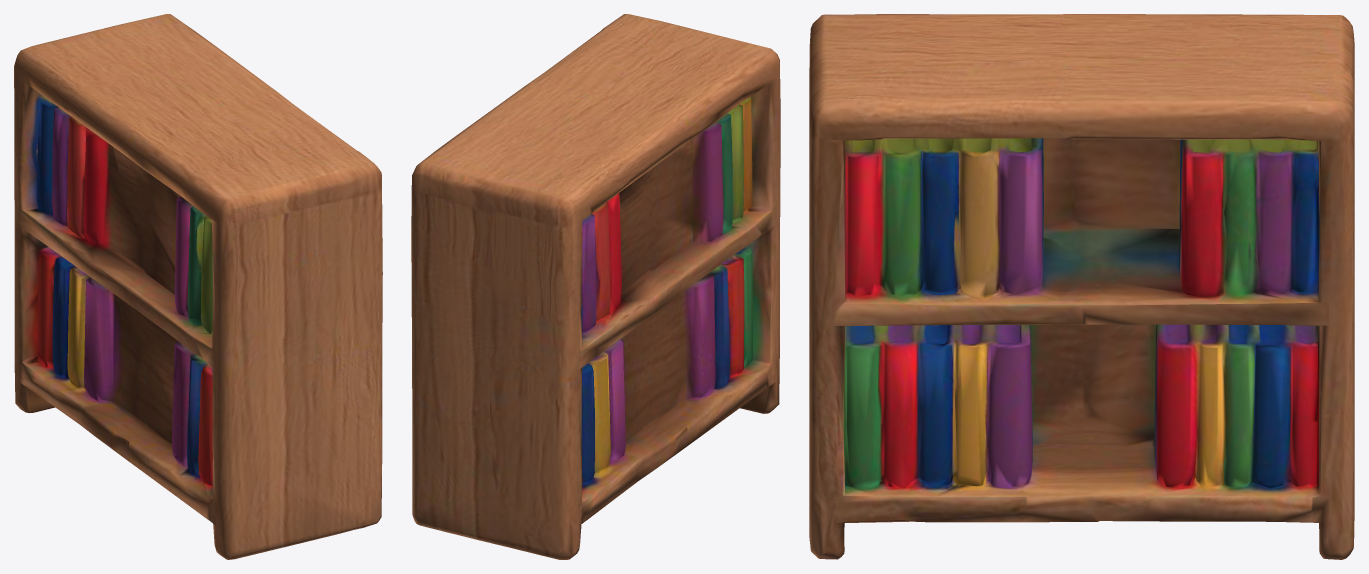
Rendered from bookshelf.glb.
The picture shows the model from 3 angles, left to right: view 1: azimuth 30°, elevation 25°; view 2: azimuth 150°, elevation 25°; view 3: azimuth 270°, elevation 25°; orthographic projection. The views are drawn at different scales.
Parts seen in each view (by area): view 1: tripo_node_dbf97d71-fd2e-4c42-bda3-5a3889b4bac4; view 2: tripo_node_dbf97d71-fd2e-4c42-bda3-5a3889b4bac4; view 3: tripo_node_dbf97d71-fd2e-4c42-bda3-5a3889b4bac4.
Boxes of the visible parts, x1,y1,x2,y2 form: tripo_node_dbf97d71-fd2e-4c42-bda3-5a3889b4bac4: (14, 14, 382, 559); tripo_node_dbf97d71-fd2e-4c42-bda3-5a3889b4bac4: (411, 14, 780, 559); tripo_node_dbf97d71-fd2e-4c42-bda3-5a3889b4bac4: (809, 14, 1354, 559).
Size of the model in its own units: 0.4351 by 0.9261 by 0.9999.
Materials: 1 (1 with a texture image).
